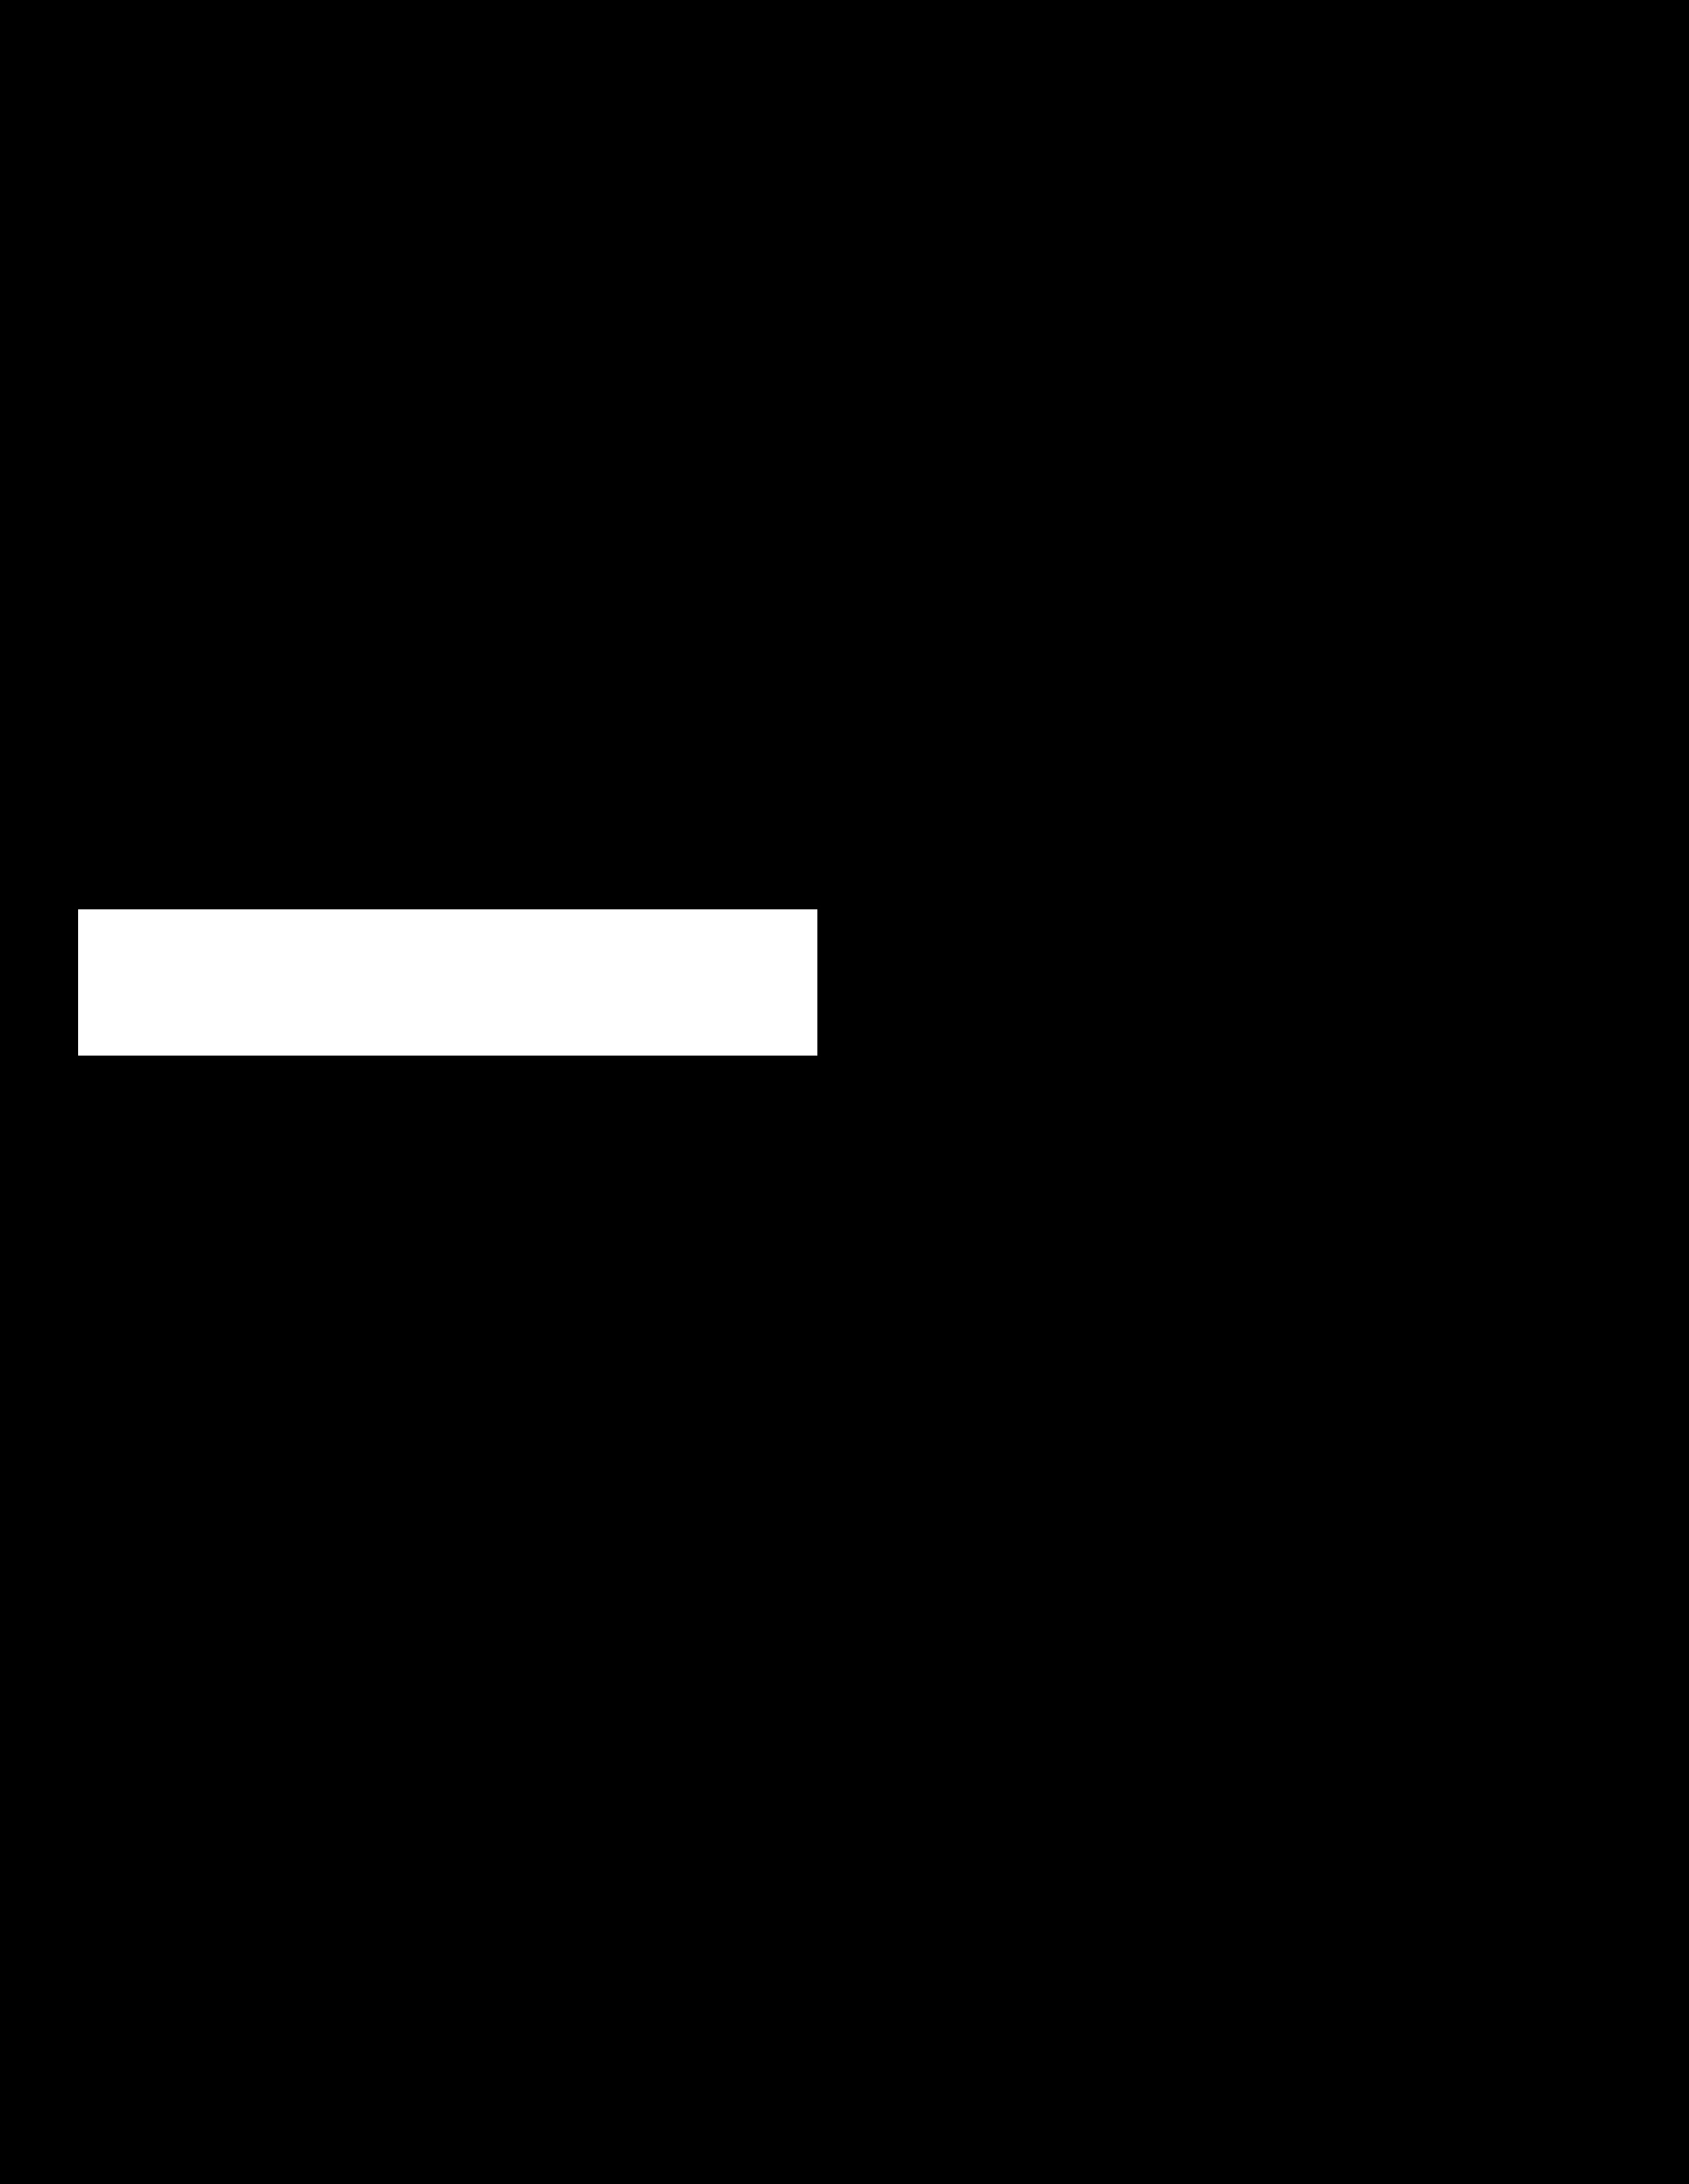table: (78, 909, 817, 1055)
